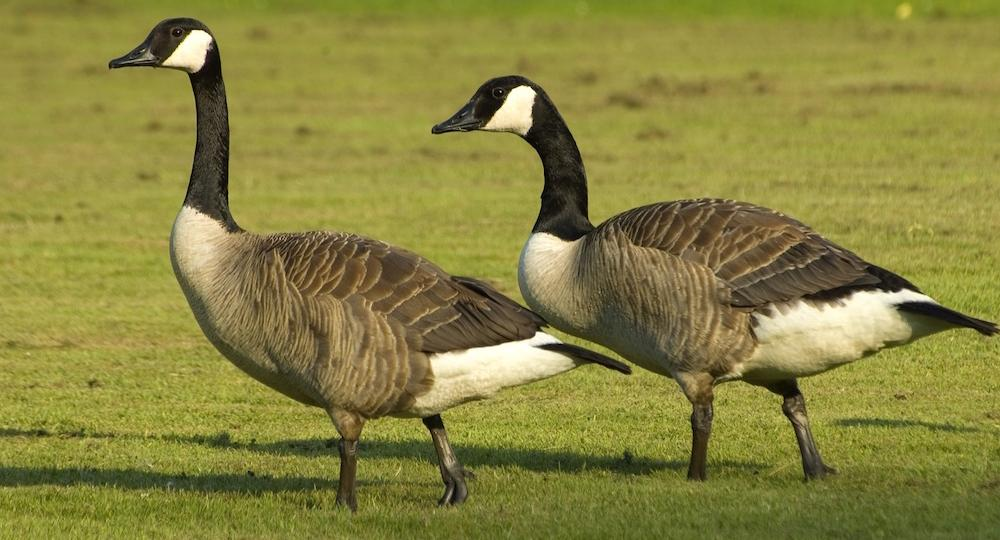Canadian-Goose: (109, 16, 584, 511), (430, 76, 985, 476)
